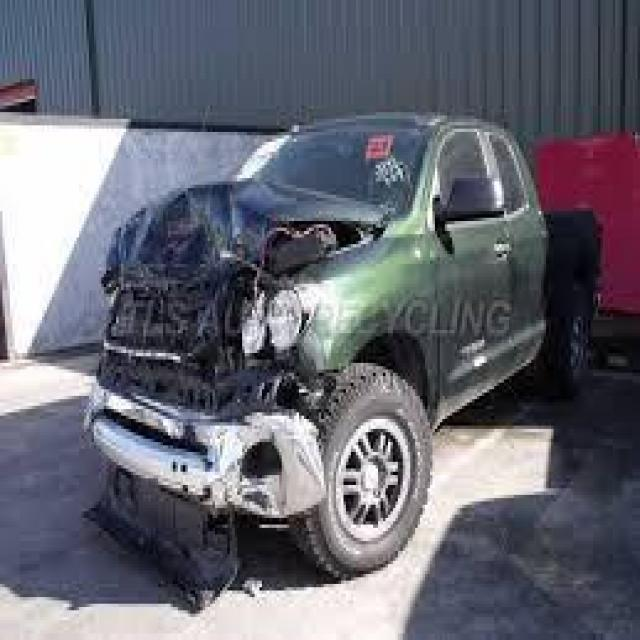damaged: (84, 208, 373, 604)
